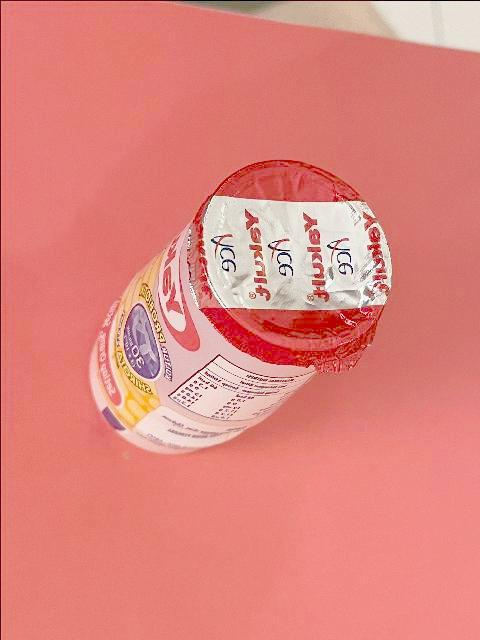plasticbottle: (90, 157, 390, 456)
